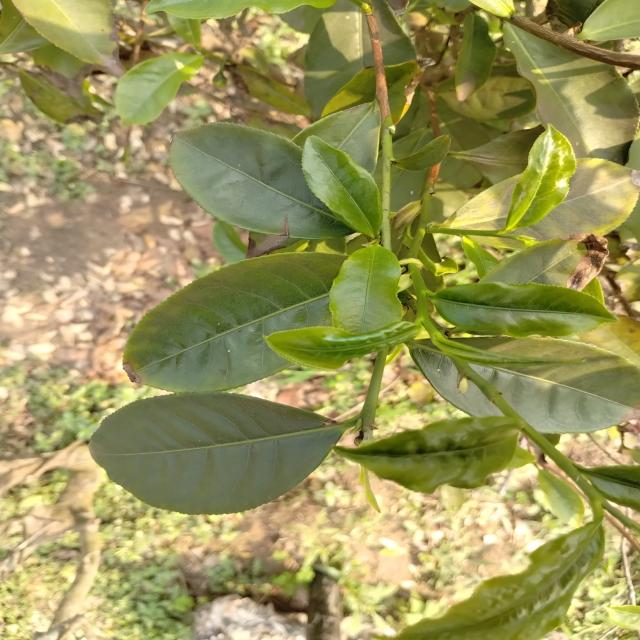Leaf: (90, 392, 343, 514), (123, 252, 345, 391), (397, 520, 604, 640), (170, 122, 352, 239), (503, 23, 640, 165), (454, 337, 640, 434), (335, 416, 518, 493), (431, 282, 616, 337), (516, 159, 640, 240), (305, 0, 373, 119), (302, 136, 382, 237), (12, 0, 119, 73), (263, 321, 419, 369), (505, 125, 575, 231), (479, 234, 608, 290), (409, 340, 500, 416), (292, 101, 381, 175), (329, 244, 402, 334), (115, 53, 203, 126), (19, 70, 100, 123), (443, 175, 519, 231), (235, 65, 311, 117), (455, 13, 496, 102), (147, 0, 336, 19), (372, 0, 416, 66), (581, 465, 640, 512), (321, 67, 375, 118), (538, 469, 584, 525), (578, 0, 640, 41), (385, 60, 420, 124), (392, 135, 450, 171), (245, 232, 298, 258)
